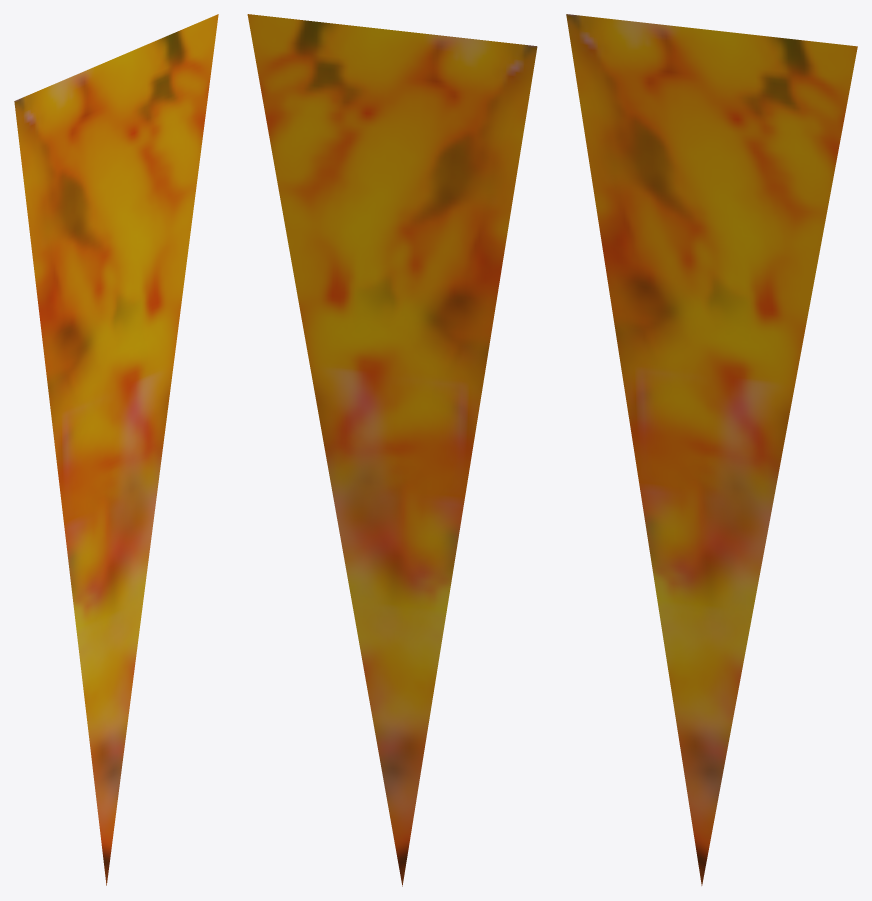
The model's file is Island_2_LatTri_3.gltf.
3 views of the same model, side by side, from view 1: azimuth 30°, elevation 25°; view 2: azimuth 150°, elevation 25°; view 3: azimuth 330°, elevation 25° (orthographic). The views are drawn at different scales.
Parts seen in each view (by area): view 1: Island_2_LatTri_3; view 2: Island_2_LatTri_3; view 3: Island_2_LatTri_3.
Boxes of the visible parts, x1=… form: Island_2_LatTri_3: x1=14, y1=14, x2=218, y2=885; Island_2_LatTri_3: x1=247, y1=14, x2=537, y2=886; Island_2_LatTri_3: x1=566, y1=14, x2=857, y2=885.
Bounding box in the file's own units: 1.36 × 4.42 × 0.3704.
1 material, 1 textured.
